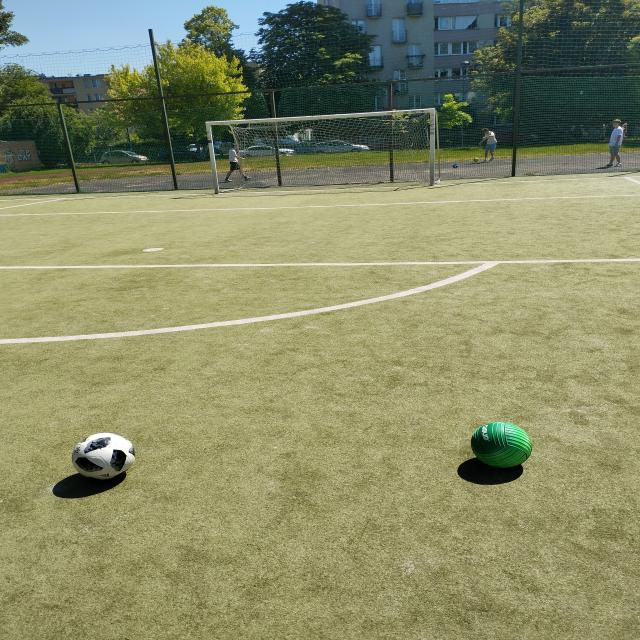nozna: (72, 433, 136, 480)
zielona: (471, 422, 532, 468)
